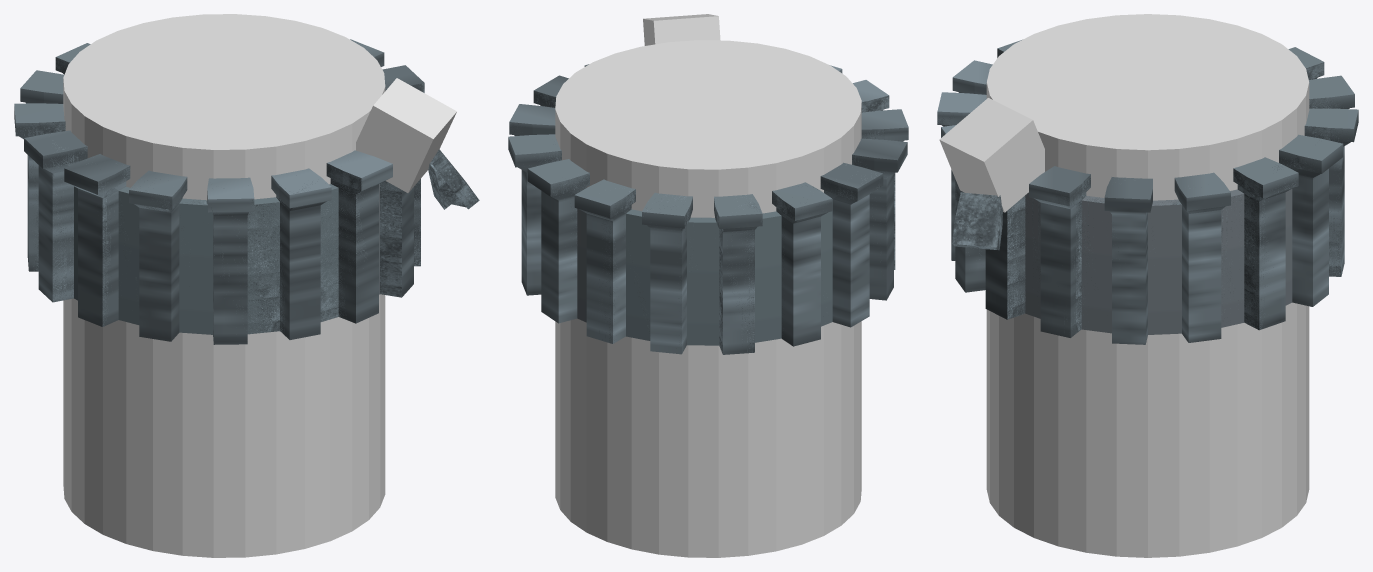
File: floor-01-area-02.fbx
The picture shows the model from 3 angles, left to right: view 1: azimuth 30°, elevation 25°; view 2: azimuth 150°, elevation 25°; view 3: azimuth 270°, elevation 25°; orthographic projection. The views are drawn at different scales.
Parts seen in each view (by area): view 1: Fountain-Hole-Cutter, Area2-Fountain, Area2-Fountain-Broken, Part-Cutter, Area2-Fountain-Part; view 2: Fountain-Hole-Cutter, Area2-Fountain, Area2-Fountain-Broken, Part-Cutter; view 3: Fountain-Hole-Cutter, Area2-Fountain, Area2-Fountain-Broken, Part-Cutter, Area2-Fountain-Part.
Part boxes in pixels (x1,y1,x2,y2): Fountain-Hole-Cutter: (63, 14, 385, 557); Area2-Fountain: (14, 39, 424, 344); Area2-Fountain-Broken: (16, 57, 424, 340); Part-Cutter: (356, 78, 456, 192); Area2-Fountain-Part: (428, 149, 479, 209); Fountain-Hole-Cutter: (555, 40, 861, 557); Area2-Fountain: (508, 64, 908, 354); Area2-Fountain-Broken: (509, 91, 908, 354); Part-Cutter: (643, 14, 720, 45); Fountain-Hole-Cutter: (986, 14, 1309, 557); Area2-Fountain: (937, 39, 1358, 344); Area2-Fountain-Broken: (937, 62, 1352, 334); Part-Cutter: (939, 98, 1044, 212); Area2-Fountain-Part: (952, 192, 1002, 250).
Size of the model in its own units: 644 by 719 by 644.
